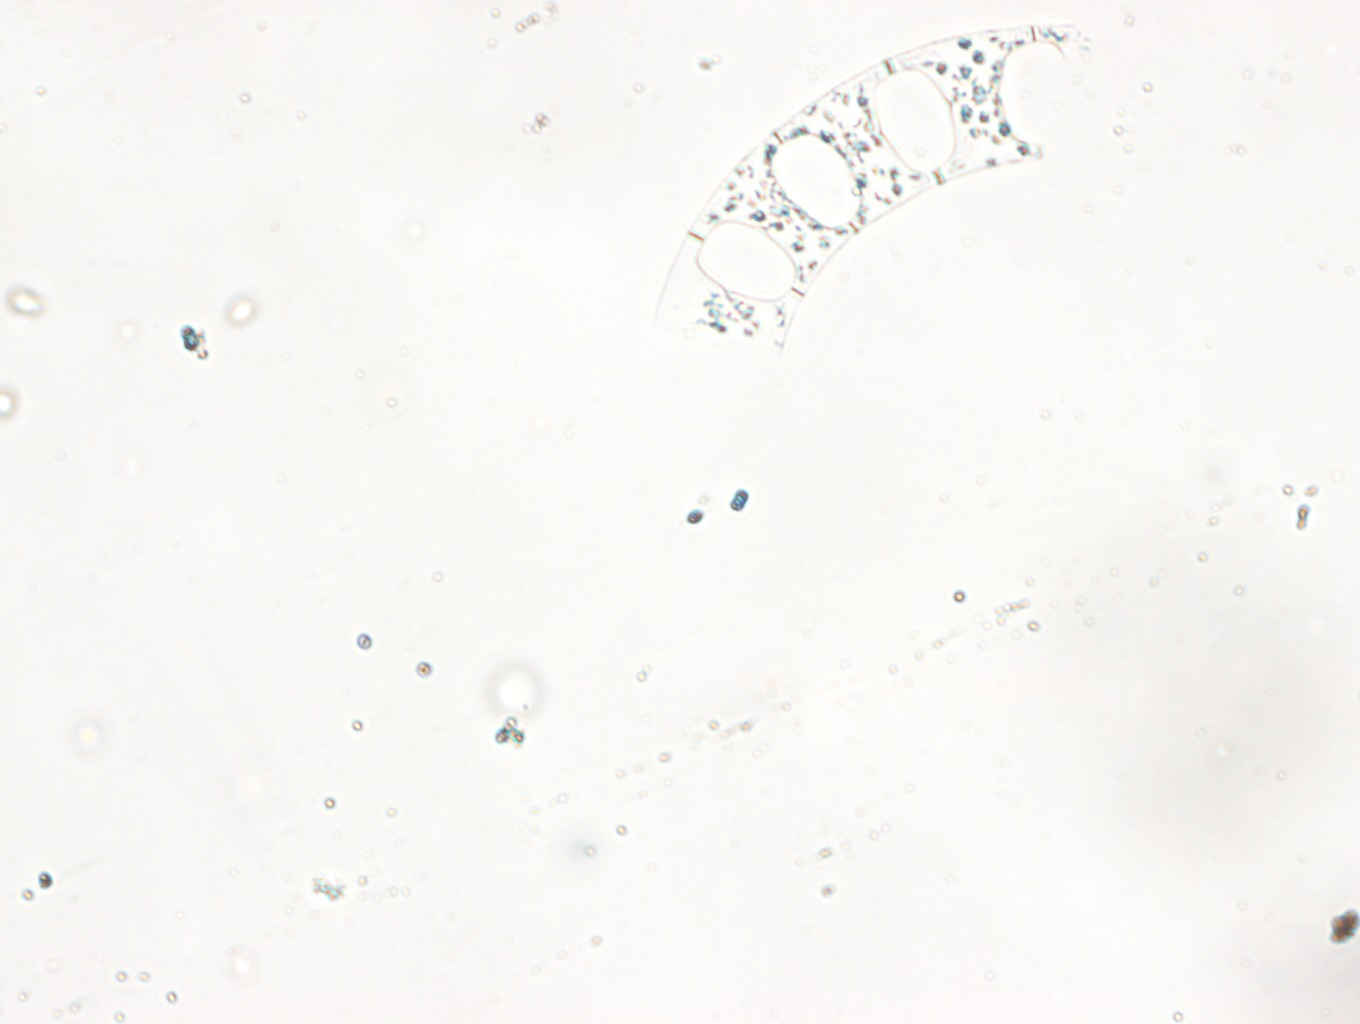eucampia: (640, 8, 1094, 365)
